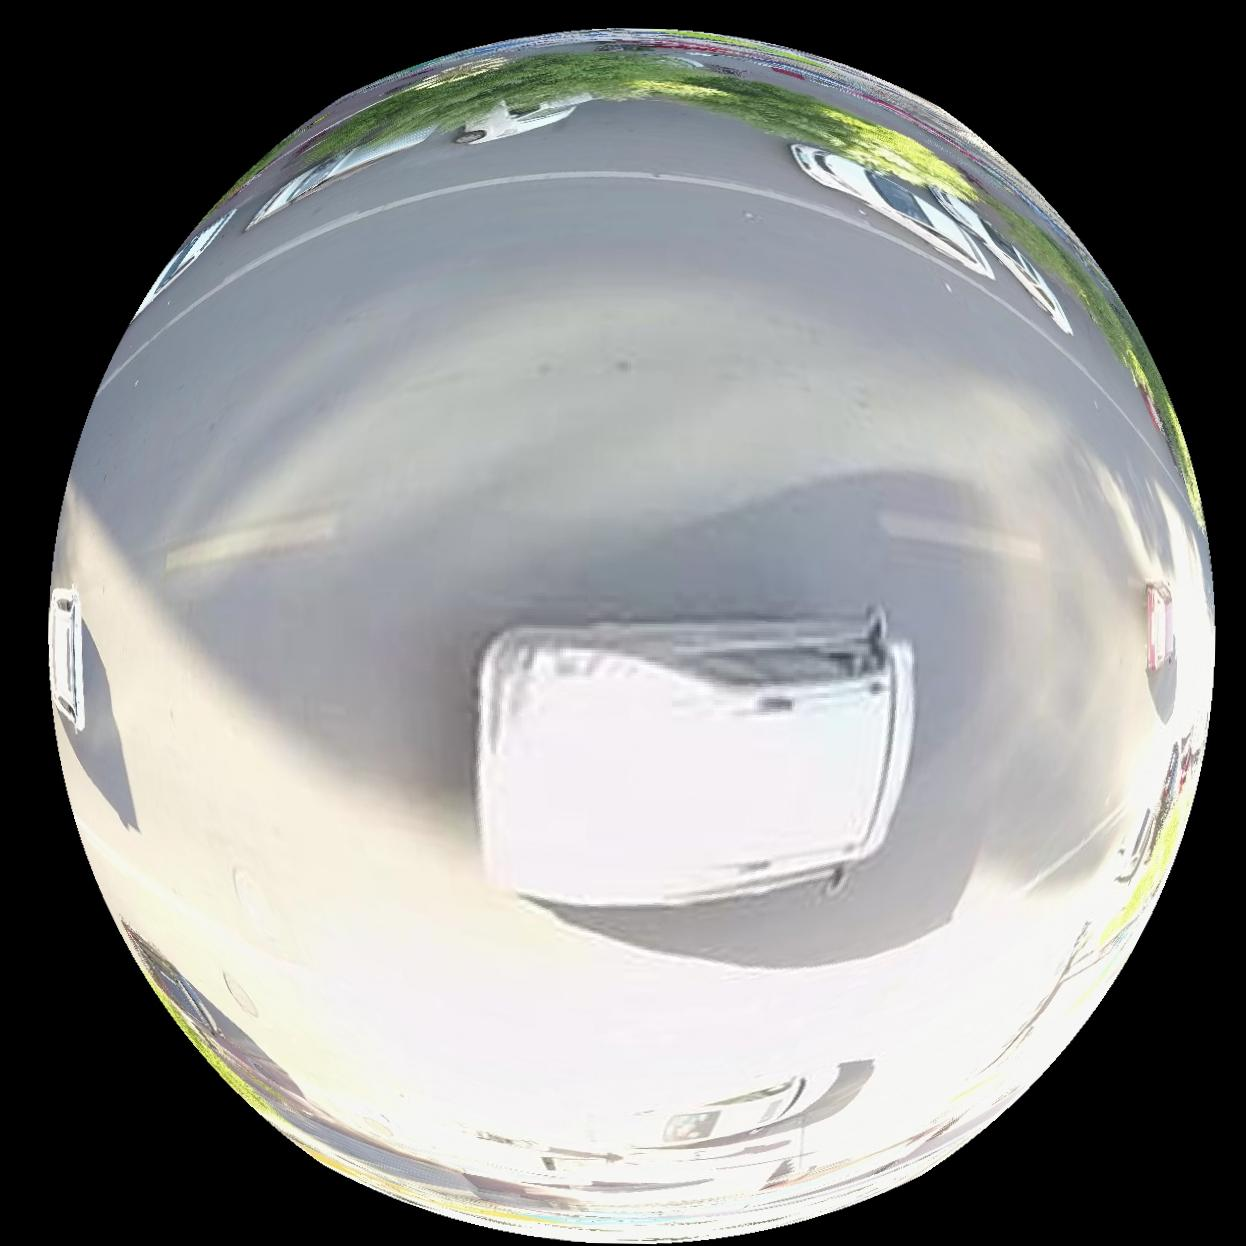cars: (474, 609, 912, 907), (791, 142, 993, 277), (245, 126, 432, 225), (136, 213, 227, 309), (452, 94, 589, 143), (45, 588, 81, 731), (1146, 585, 1175, 672)
